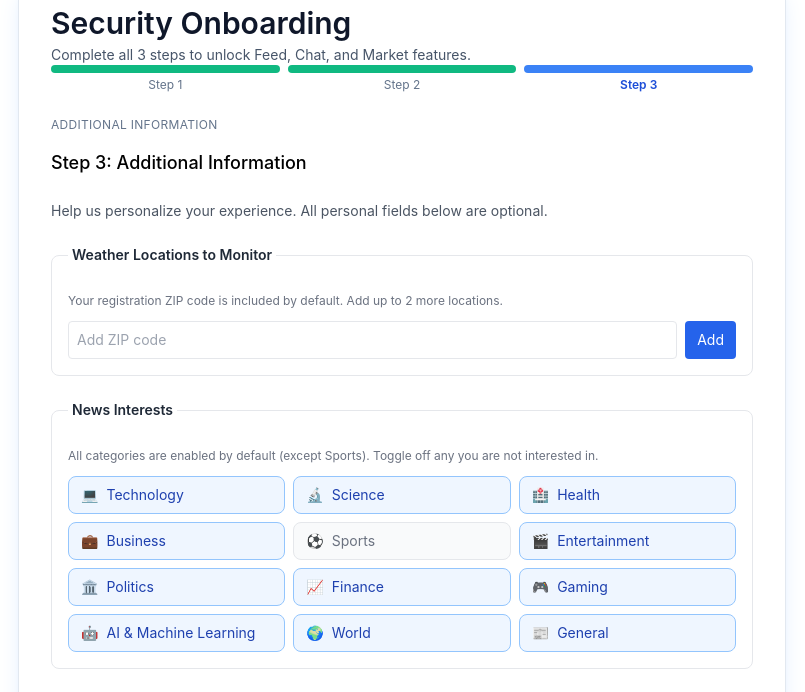
it: OnboardingWizard Step 3 additional information flow › collapses the sports team panel when Done is clicked and can reopen it later
Click the button "⚽ Sports" at (402, 541), box [293,522,511,560]
(page scrolled)
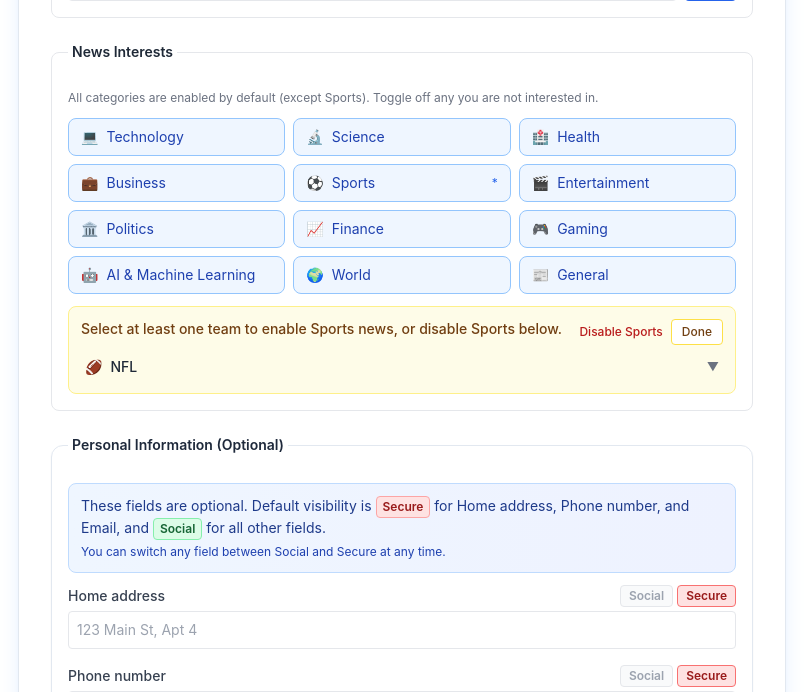
Now the text "Select at least one team to enable Sports news" is shown, box [81,320,562,337]
Click the button "Done" at (697, 332), box [671,319,723,345]
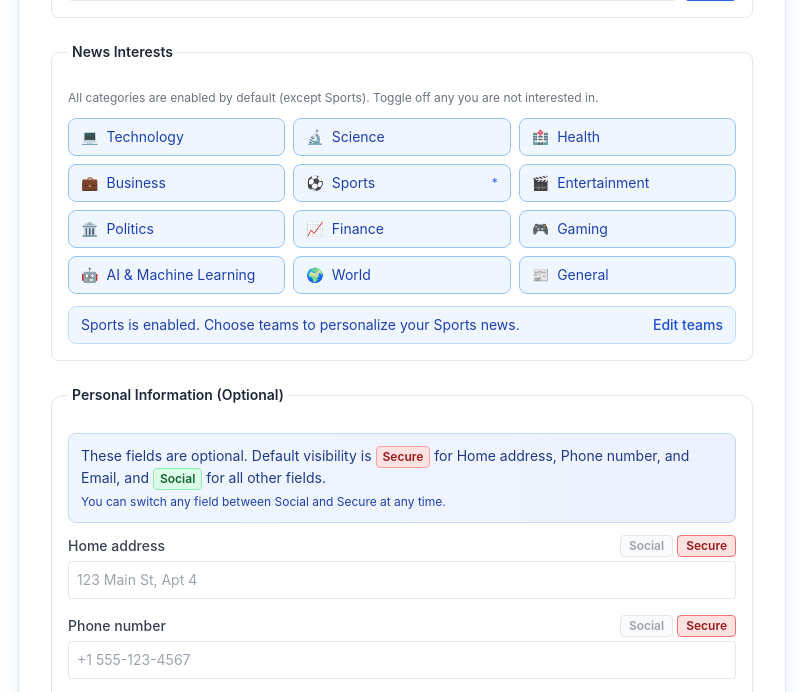
Now the text "Select at least one team to enable Sports news" is gone
Now the text "Sports is enabled. Choose teams to personalize your Sports news." is shown, box [81,315,520,335]
Click the button "Edit teams" at (688, 325), box [653,315,723,335]
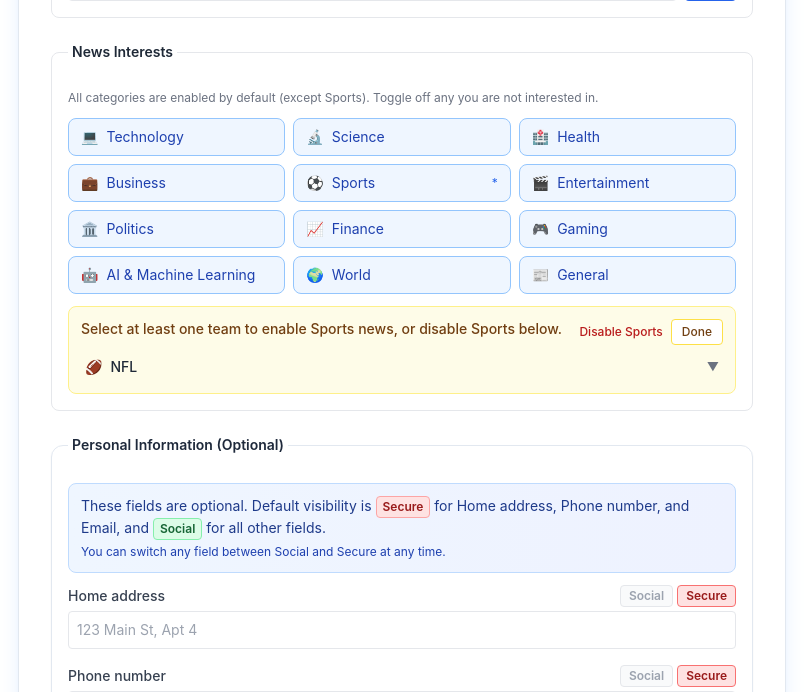
Now the text "Select at least one team to enable Sports news" is shown, box [81,320,562,337]
